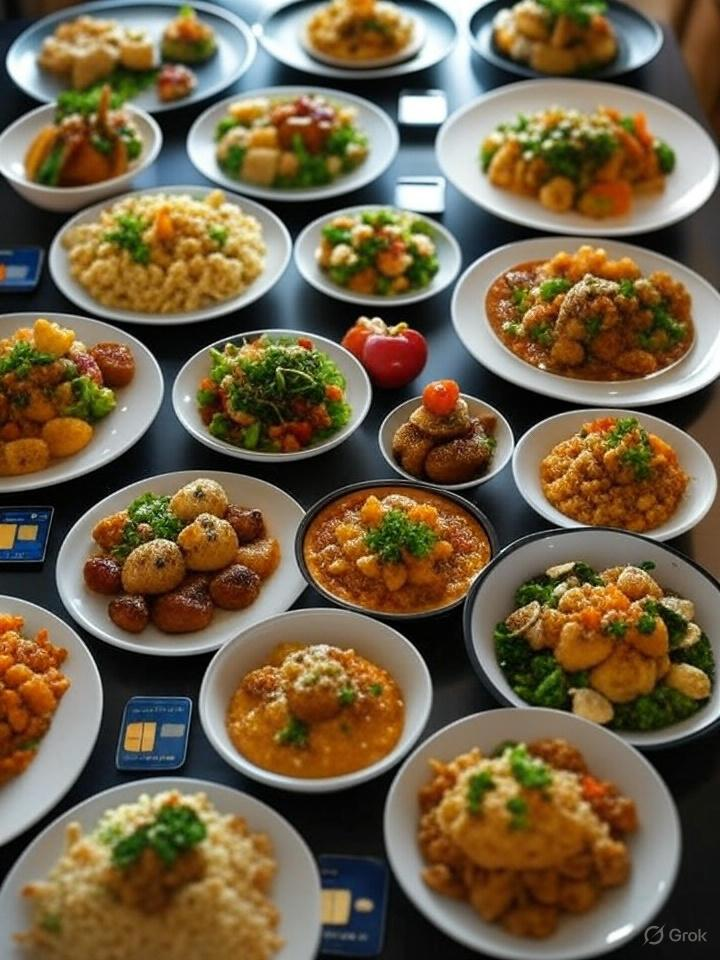Food-Detection: (118, 694, 189, 770)
